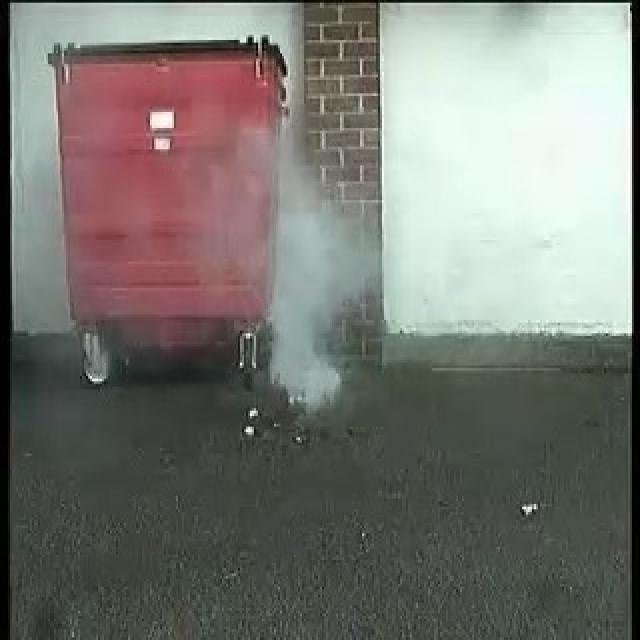smoke: (271, 142, 377, 413)
